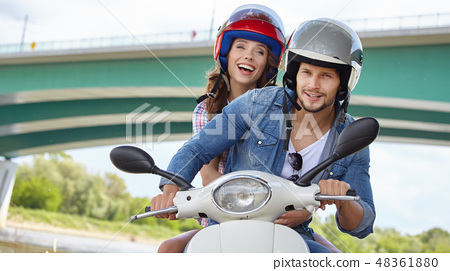helmet: (286, 9, 361, 84), (212, 11, 288, 57)
